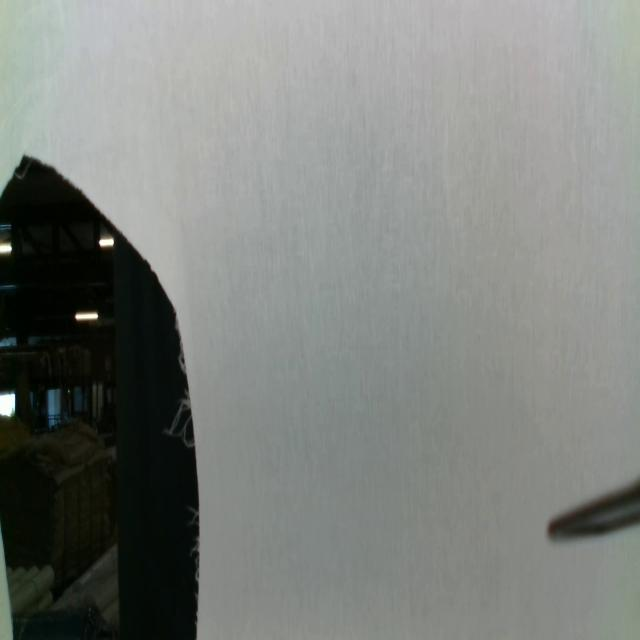hole: (0, 150, 202, 640)
